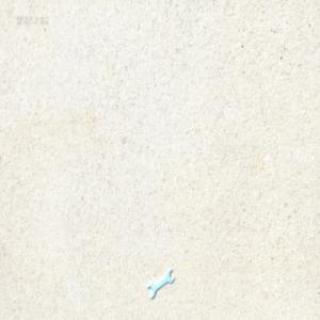Wrenchtrack_idkeyframe: (146, 267, 172, 298)
